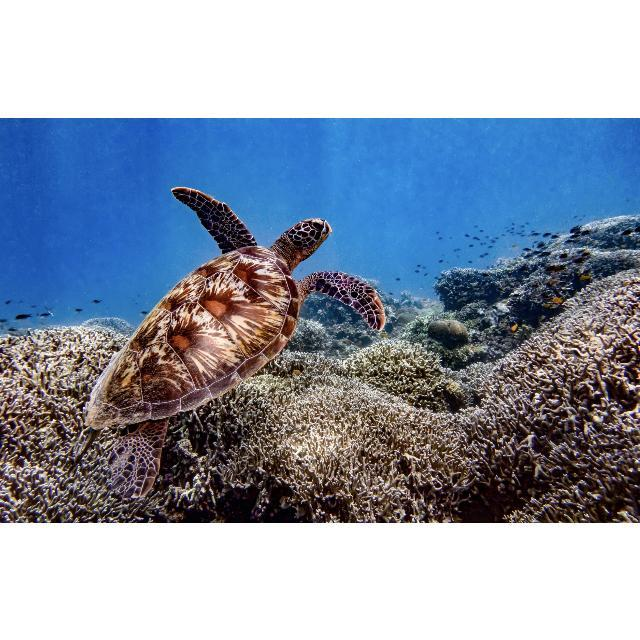turtle: (70, 187, 388, 500)
